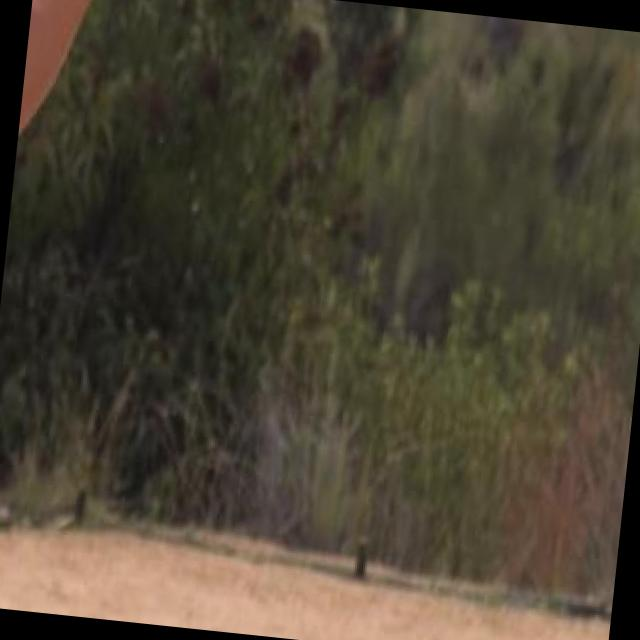Guns: (57, 0, 291, 11)
